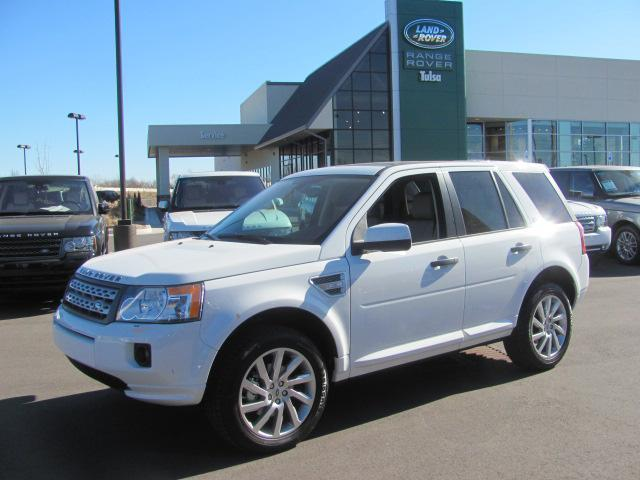Car: (44, 142, 594, 430), (149, 153, 307, 287), (0, 163, 119, 307)
